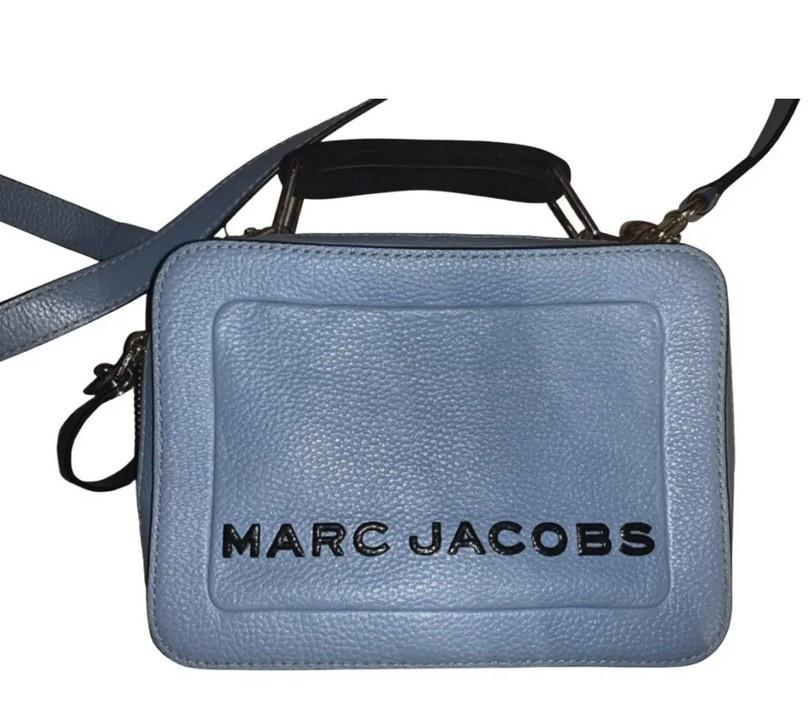MARC-JACOBS: (222, 521, 656, 558)
